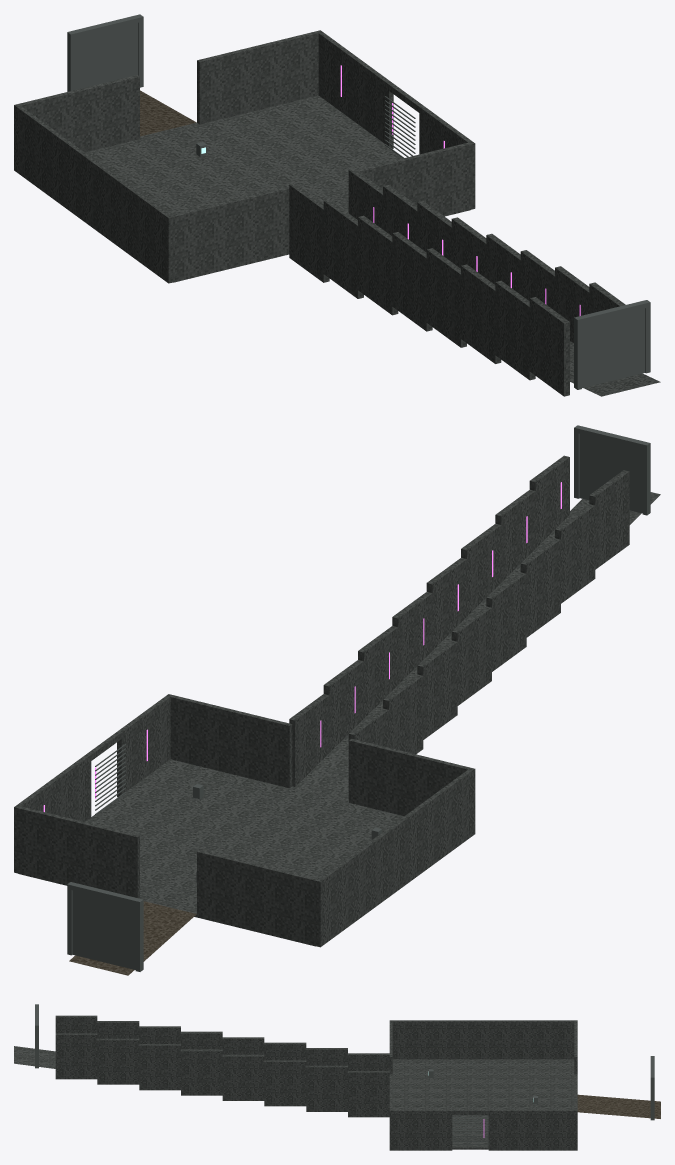
Rendered from PH03_Route_C.fbx.
3 views of the same model, one above another, from view 1: azimuth 30°, elevation 25°; view 2: azimuth 150°, elevation 25°; view 3: azimuth 270°, elevation 25° (orthographic). The views are drawn at different scales.
Visible parts, largest first — view 1: C_CombatPocket_20x18, C_RoomWall, C_RoomEndWall, C_RoomEndWall.003, C_RoomEndWall.002, C_RoomWall_GrateSide.001, C_RoomEndWall.001, C_Front_OpaqueSeal, C_Rear_OpaqueSeal, C_TunnelWall, C_TunnelWall.008, C_TunnelWall.014 (+18 smaller); view 2: C_CombatPocket_20x18, C_RoomWall, C_RoomEndWall.001, C_RoomEndWall.003, C_RoomEndWall.002, C_RoomEndWall, C_Rear_OpaqueSeal, C_RoomWall_GrateSide, C_TraversalSurface, C_Front_OpaqueSeal, C_RoomWall_GrateSide.001, C_TunnelWall.010 (+16 smaller); view 3: C_CombatPocket_20x18, C_RoomWall, C_RoomWall_GrateSide.001, C_RoomWall_GrateSide, C_TunnelWall.003, C_TunnelWall.011, C_TunnelWall.001, C_TunnelWall.009, C_TunnelWall.005, C_TunnelWall.007, C_TunnelWall.013, C_TunnelWall.015 (+10 smaller).
Boxes of the visible parts, x1,y1,x2,y2 form: C_CombatPocket_20x18: (85, 95, 470, 282); C_RoomWall: (14, 104, 172, 283); C_RoomEndWall: (171, 186, 289, 282); C_RoomEndWall.003: (197, 31, 318, 124); C_RoomEndWall.002: (19, 75, 139, 152); C_RoomWall_GrateSide.001: (316, 30, 393, 148); C_RoomEndWall.001: (357, 142, 470, 215); C_Front_OpaqueSeal: (582, 308, 645, 387); C_Rear_OpaqueSeal: (75, 23, 138, 89); C_TunnelWall: (529, 297, 569, 396); C_TunnelWall.008: (392, 232, 432, 331); C_TunnelWall.014: (289, 183, 329, 282); C_CombatPocket_20x18: (18, 759, 403, 946); C_RoomWall: (316, 768, 475, 947); C_RoomEndWall.001: (170, 695, 292, 788); C_RoomEndWall.003: (18, 806, 139, 898); C_RoomEndWall.002: (197, 850, 317, 942); C_RoomEndWall: (349, 738, 470, 816); C_Rear_OpaqueSeal: (72, 890, 135, 969); C_RoomWall_GrateSide: (117, 694, 172, 797); C_TraversalSurface: (295, 492, 660, 799); C_Front_OpaqueSeal: (579, 434, 642, 513); C_RoomWall_GrateSide.001: (14, 754, 91, 873); C_TunnelWall.010: (417, 640, 457, 739); C_CombatPocket_20x18: (392, 1059, 574, 1149); C_RoomWall: (389, 1020, 577, 1059); C_RoomWall_GrateSide.001: (488, 1109, 577, 1150); C_RoomWall_GrateSide: (389, 1109, 452, 1150); C_TunnelWall.003: (97, 1038, 139, 1084); C_TunnelWall.011: (264, 1060, 306, 1106); C_TunnelWall.001: (55, 1033, 97, 1079); C_TunnelWall.009: (222, 1054, 264, 1100); C_TunnelWall.005: (139, 1044, 180, 1090); C_TunnelWall.007: (181, 1049, 222, 1095); C_TunnelWall.013: (306, 1065, 347, 1111); C_TunnelWall.015: (348, 1071, 389, 1117).
Size of the model in its own units: 2060 by 1008 by 6200.
Materials: 6 (2 with a texture image).
